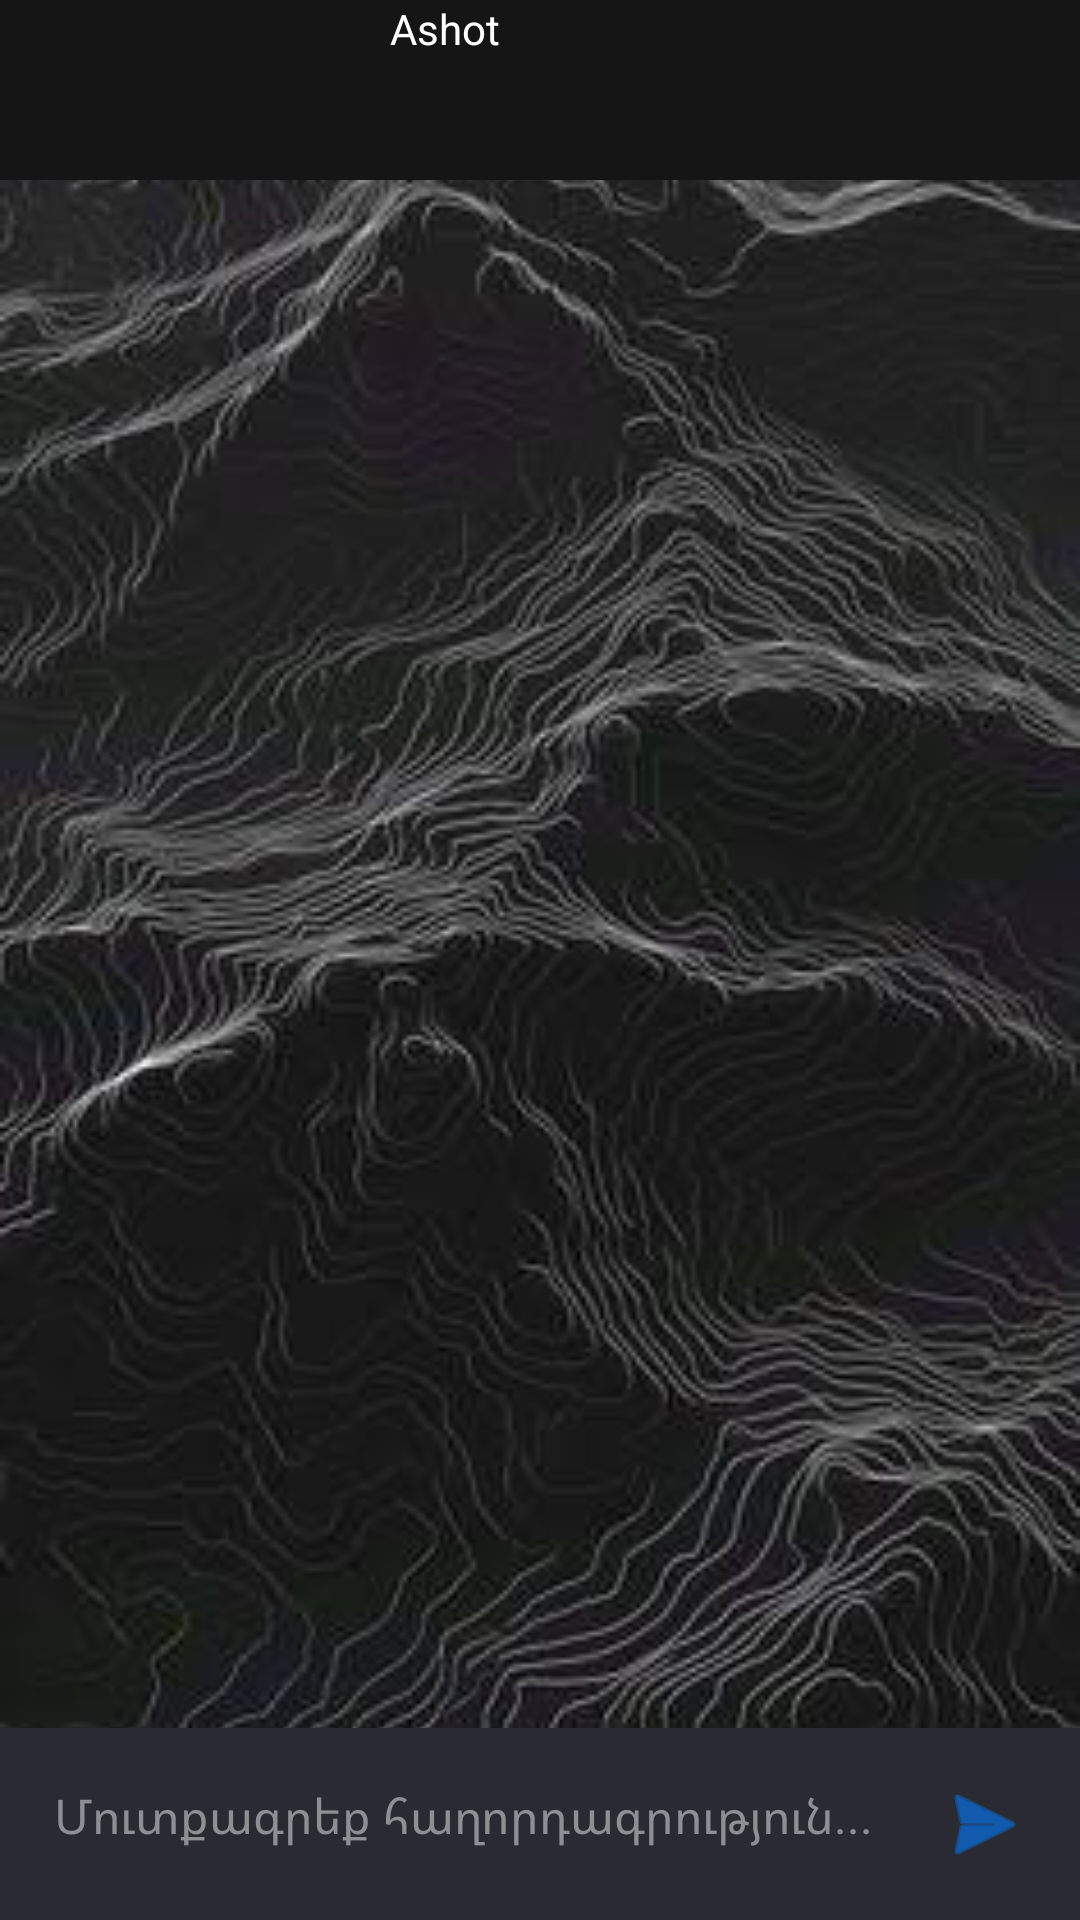

Icons on this 1080px x 1920px Android screen, each with the point to tap as (x=x, y=y):
Отправить: (x=985, y=1824)
